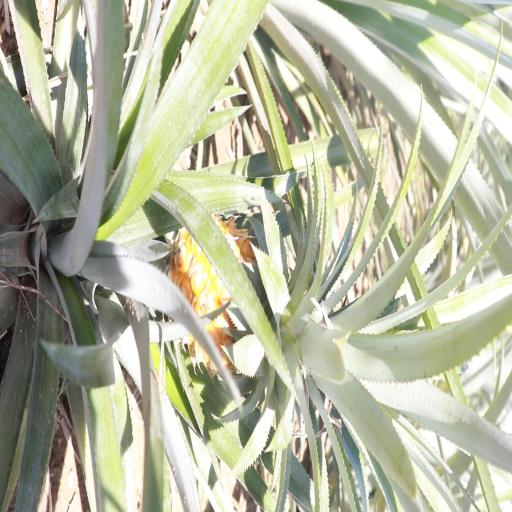Pineapple - v8 v1: (174, 208, 387, 372)
